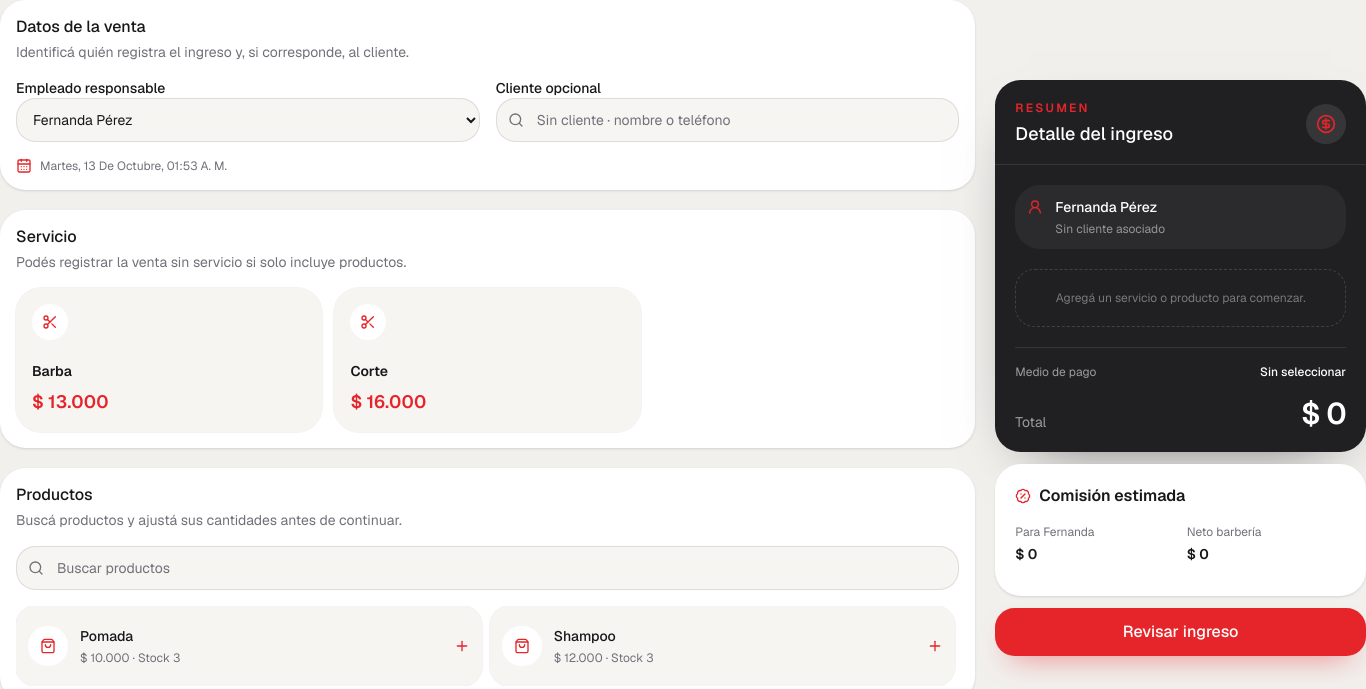
Scenario: IncomeForm (manager) › shows the validation reason instead of silently blocking review
The image size is (1366, 689).
Click the button "Barba $ 13.000" at coordinates (50, 322), box [16,288,322,432]
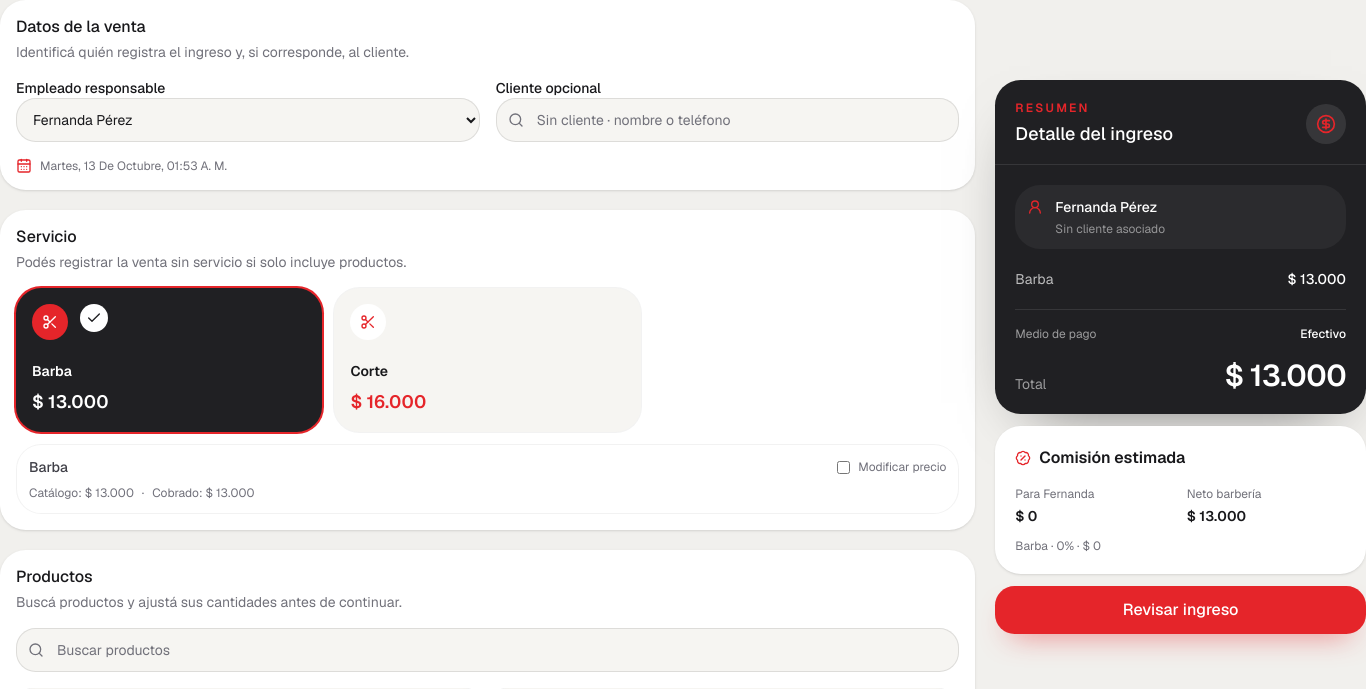
Click the checkbox named "modificar precio de barba" at coordinates (844, 467), box [837,460,850,474]
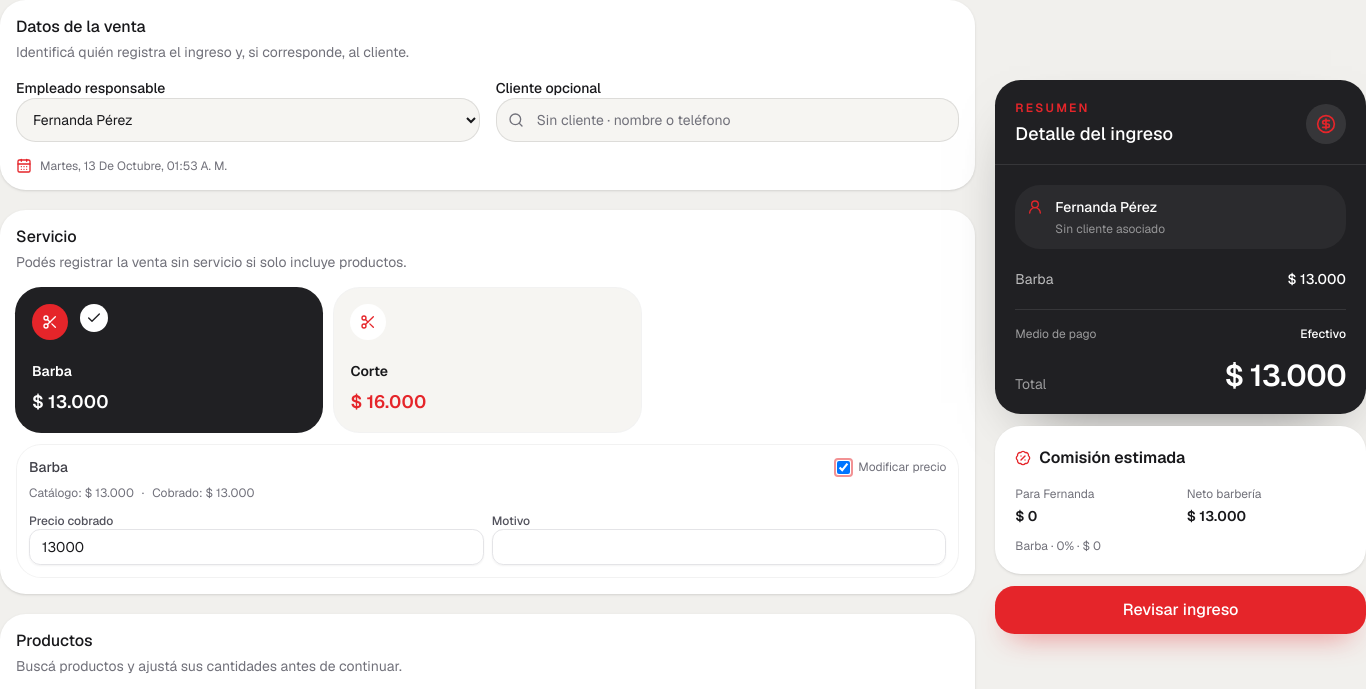
Click the button "Revisar ingreso" at coordinates (1181, 610), box [995,586,1365,634]
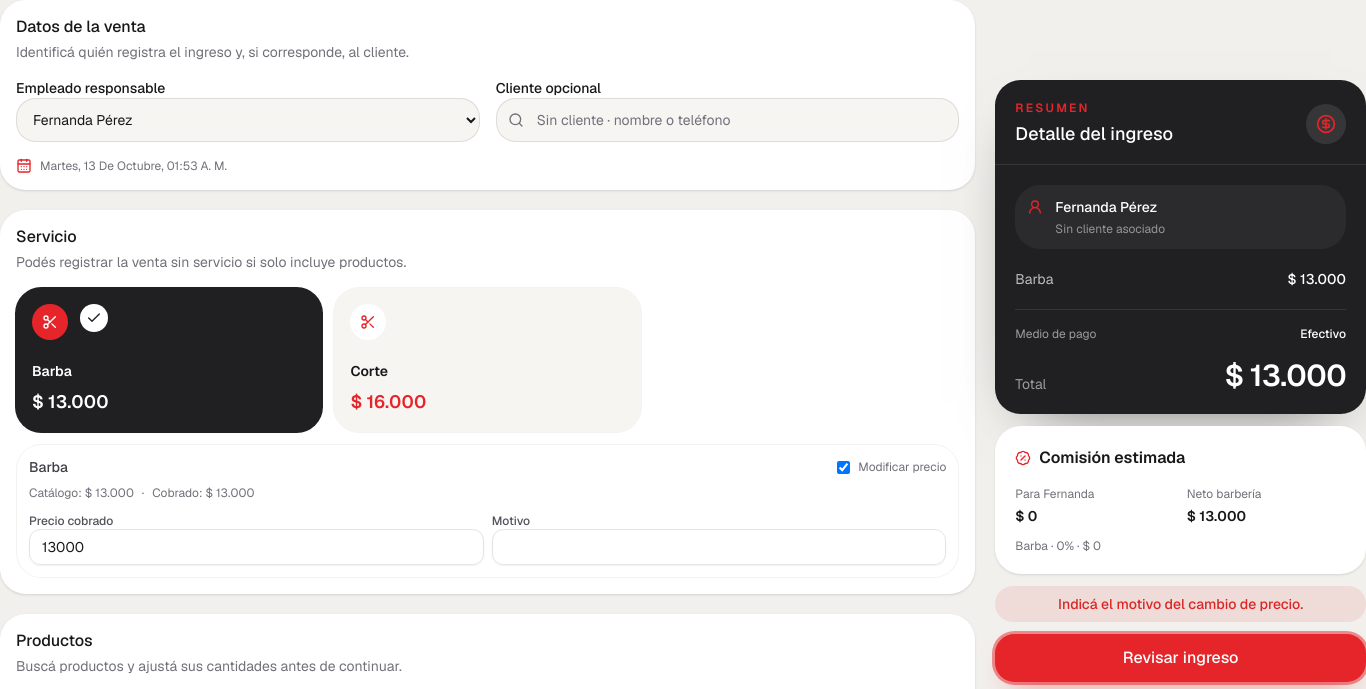
Result: the message reads "Indicá el motivo del cambio de precio." at [1058,595,1303,613]
